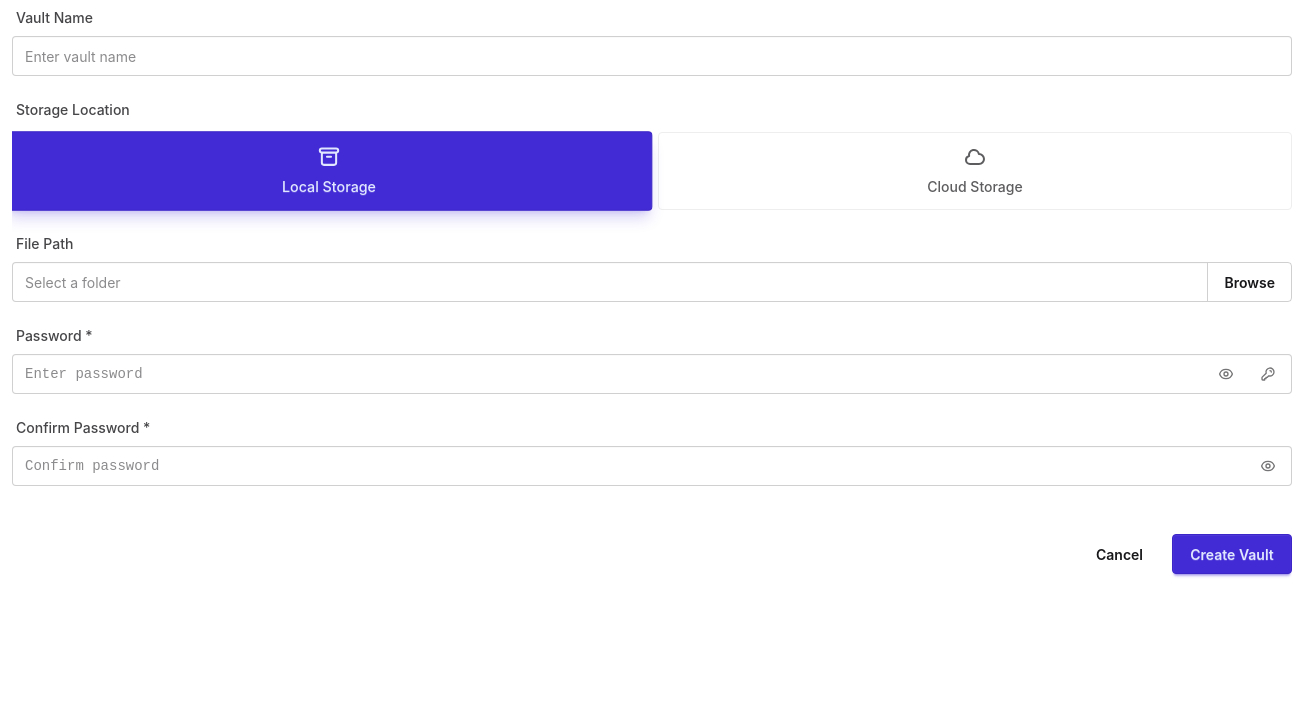
AddVaultForm with Cloud Storage › Storage Location Selection › should hide file path input when cloud storage is selected
What coordinates should you click on to do the following:
click the button "Cloud Storage"
I would click on:
 (975, 171)
Its box is [658, 132, 1292, 210].
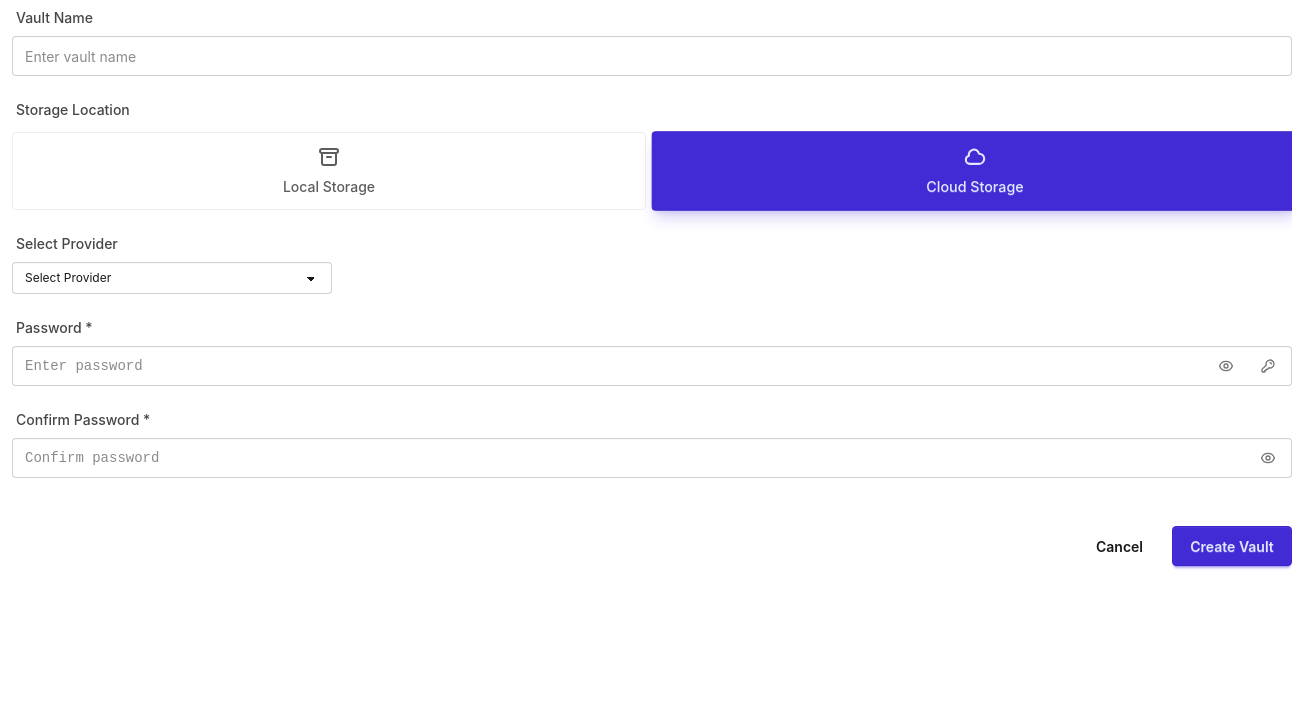
expect the text "File Path" is gone: met
